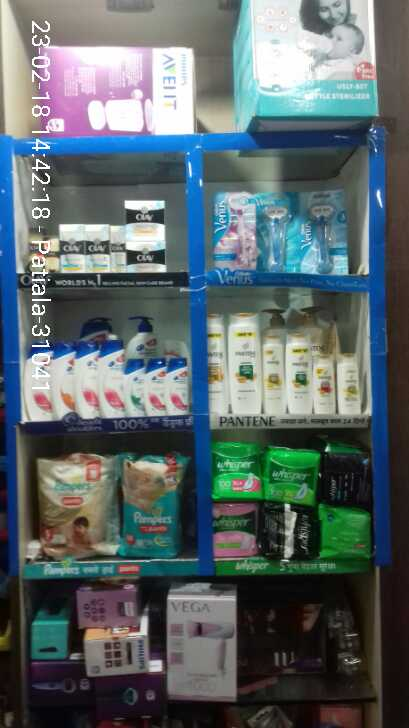venus: (297, 186, 347, 272), (254, 192, 297, 272), (212, 192, 254, 267)
